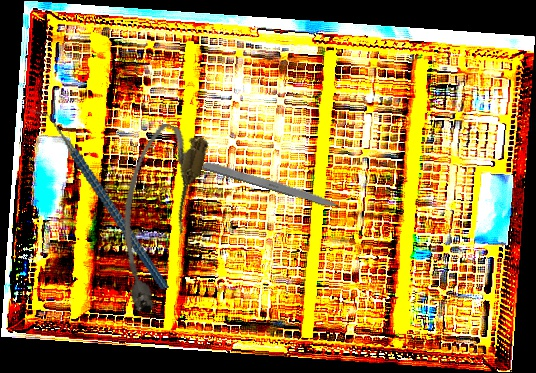Cannula: (98, 119, 211, 317)
Chopper: (29, 86, 169, 311)
Scalpel Handle: (180, 152, 343, 211)
